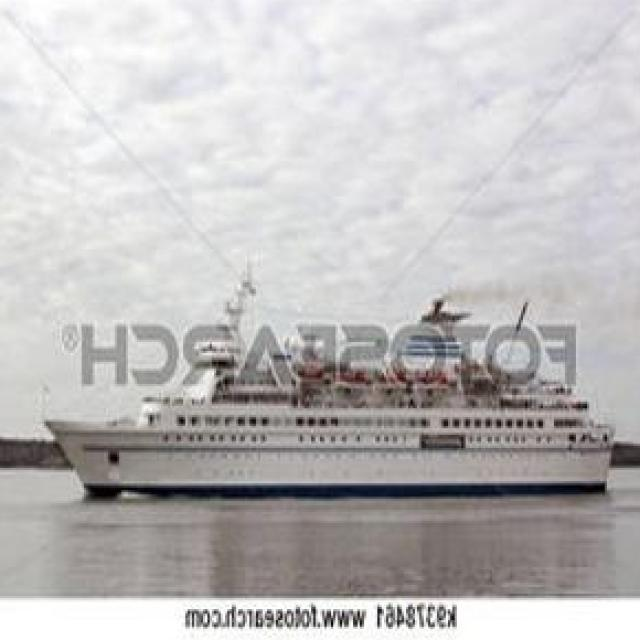passenger ship: (49, 316, 612, 503)
